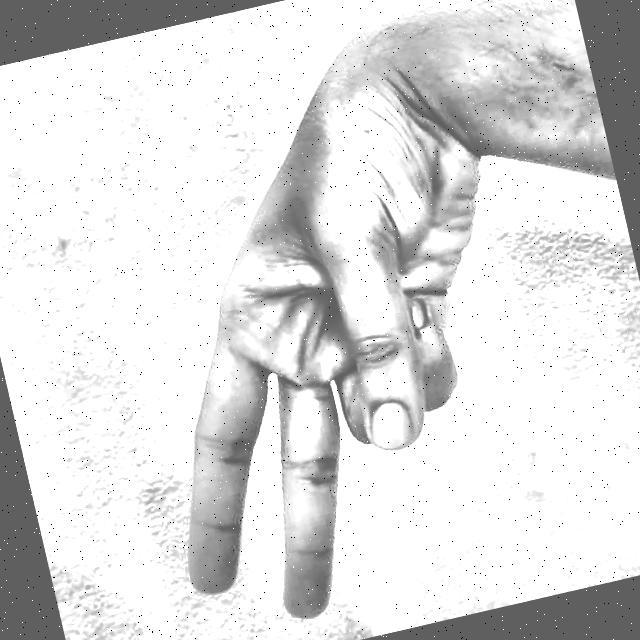Pa: (61, 2, 583, 640)
